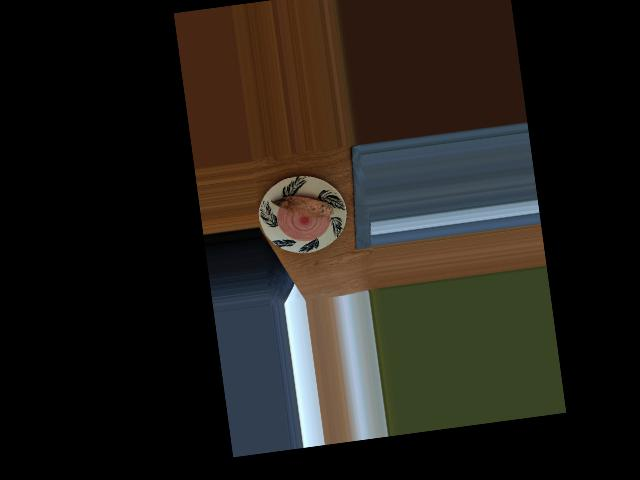sweet_potato: (275, 186, 332, 226)
